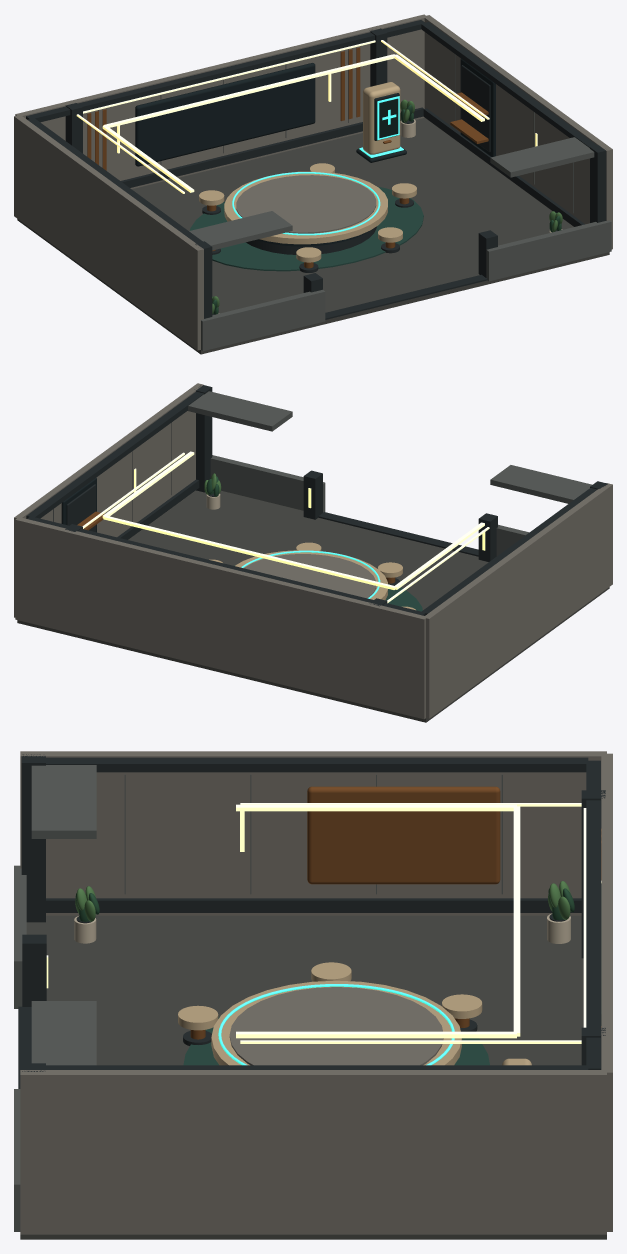
File: project-room.glb
3 renders of one model, top to bottom at view 1: azimuth 30°, elevation 25°; view 2: azimuth 150°, elevation 25°; view 3: azimuth 270°, elevation 25°, orthographic. The views are drawn at different scales.
Visible parts, largest first — view 1: Ground_ProjectRoom, Wall_Left, Wall_Back, Project_Screen_Frame, Wall_Right, Collaboration_Table_Inset, Collaboration_Rug, Entry_Wall_Right, Entry_Wall_Left, Ceiling_Trim_Back, Collaboration_Table_Top, Baseboard_Back (+21 smaller); view 2: Wall_Back, Wall_Left, Ground_ProjectRoom, Wall_Right, Entry_Wall_Right, Collaboration_Table_Inset, Ceiling_Front_Right, Ceiling_Trim_Right, Ceiling_Front_Left, Ceiling_Trim_Back, Ceiling_Recess_Back, Ceiling_Trim_Left (+11 smaller); view 3: Wall_Right, Ground_ProjectRoom, Wall_Left, Idea_Board_Frame, Collaboration_Table_Inset, Ceiling_Trim_Left, Baseboard_Left, Ceiling_Front_Left, Wall_Back, Ceiling_Trim_Back, Ceiling_Front_Right, Collaboration_Table_Top (+20 smaller).
Part boxes in pixels (<box>): Ground_ProjectRoom: <box>17,117,609,354</box>; Wall_Left: <box>14,115,203,350</box>; Wall_Back: <box>15,14,426,189</box>; Project_Screen_Frame: <box>135,63,315,166</box>; Wall_Right: <box>423,15,612,249</box>; Collaboration_Table_Inset: <box>236,175,376,233</box>; Collaboration_Rug: <box>190,186,423,271</box>; Entry_Wall_Right: <box>486,220,611,281</box>; Entry_Wall_Left: <box>201,289,325,350</box>; Ceiling_Trim_Back: <box>26,20,425,122</box>; Collaboration_Table_Top: <box>224,171,387,244</box>; Baseboard_Back: <box>121,107,423,187</box>; Wall_Back: <box>15,517,427,719</box>; Wall_Left: <box>424,483,612,718</box>; Ground_ProjectRoom: <box>17,490,609,722</box>; Wall_Right: <box>14,383,203,617</box>; Entry_Wall_Right: <box>210,455,325,512</box>; Collaboration_Table_Inset: <box>244,554,376,598</box>; Ceiling_Front_Right: <box>188,391,292,431</box>; Ceiling_Trim_Right: <box>26,391,203,518</box>; Ceiling_Front_Left: <box>490,465,592,503</box>; Ceiling_Trim_Back: <box>27,516,425,615</box>; Ceiling_Recess_Back: <box>103,515,395,589</box>; Ceiling_Trim_Left: <box>421,488,597,615</box>; Wall_Right: <box>20,1070,606,1234</box>; Ground_ProjectRoom: <box>20,915,606,1239</box>; Wall_Left: <box>20,751,606,915</box>; Idea_Board_Frame: <box>307,786,500,884</box>; Collaboration_Table_Inset: <box>229,987,443,1065</box>; Ceiling_Trim_Left: <box>46,757,588,772</box>; Baseboard_Left: <box>46,898,581,912</box>; Ceiling_Front_Left: <box>31,765,96,838</box>; Wall_Back: <box>601,753,612,1231</box>; Ceiling_Trim_Back: <box>586,760,600,1069</box>; Ceiling_Front_Right: <box>31,1001,96,1065</box>; Collaboration_Table_Top: <box>211,980,461,1065</box>.
Size of the model in its own units: 18.28 by 4.4 by 14.29.
